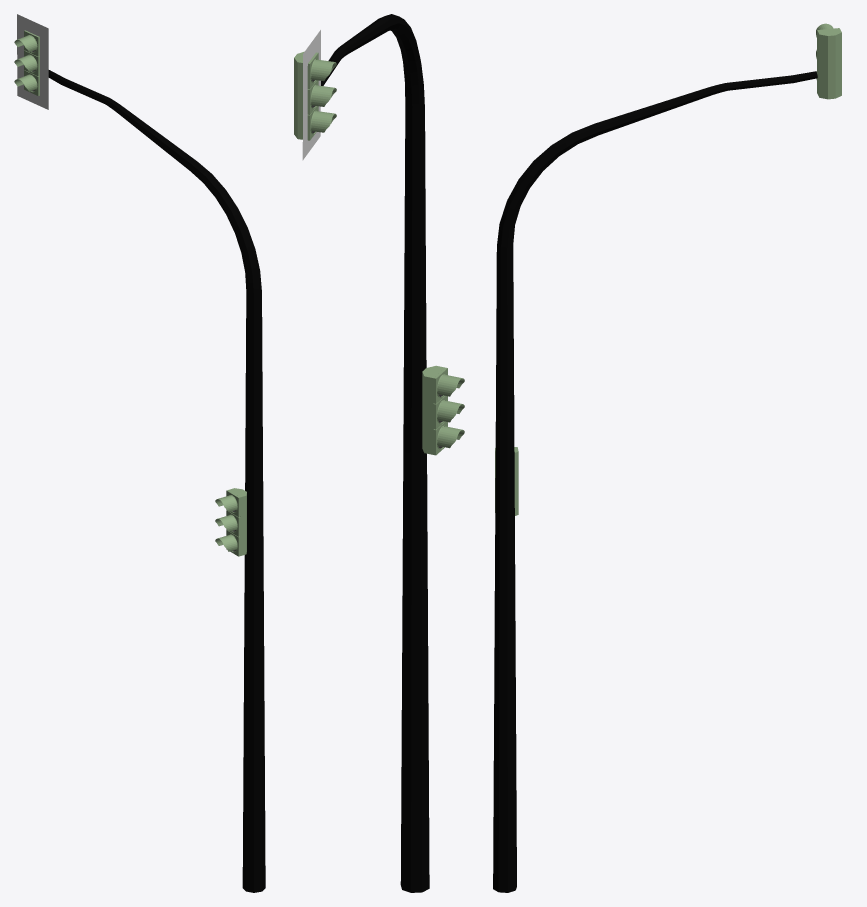
The model's file is w_highway_traffic_signals.glb.
3 views of the same model, side by side, from view 1: azimuth 30°, elevation 25°; view 2: azimuth 150°, elevation 25°; view 3: azimuth 270°, elevation 25° (orthographic). The views are drawn at different scales.
Visible parts, largest first — view 1: Pole, semafor, Plane, semafor.001; view 2: Pole, semafor, semafor.001, Plane; view 3: Pole, semafor.001.
Part boxes in pixels (box(x1,y1,x2,y2)): Pole: box(48, 70, 265, 892); semafor: box(215, 488, 246, 556); Plane: box(17, 14, 48, 109); semafor.001: box(14, 30, 39, 96); Pole: box(321, 14, 429, 892); semafor: box(422, 365, 464, 455); semafor.001: box(294, 51, 336, 140); Plane: box(302, 30, 320, 160); Pole: box(493, 71, 817, 892); semafor.001: box(816, 23, 841, 99).
Bounding box in the file's own units: 1.26 × 9.56 × 3.74.
9 materials, 6 textured.
